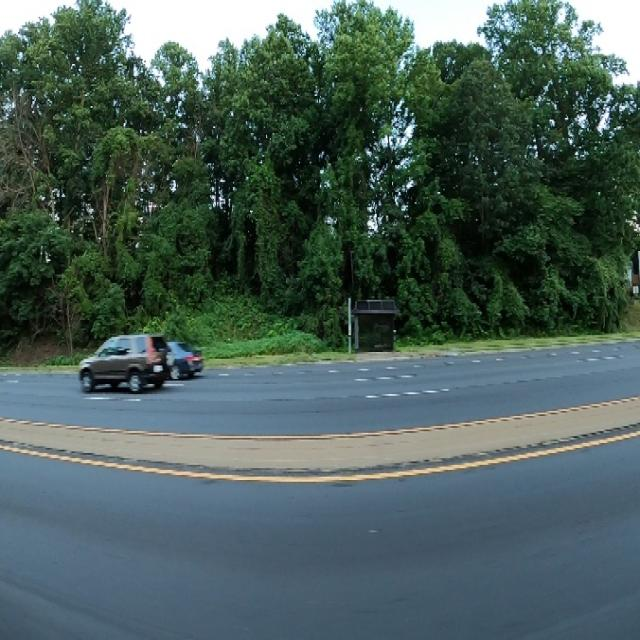cars: (77, 333, 164, 394), (148, 333, 204, 379)
